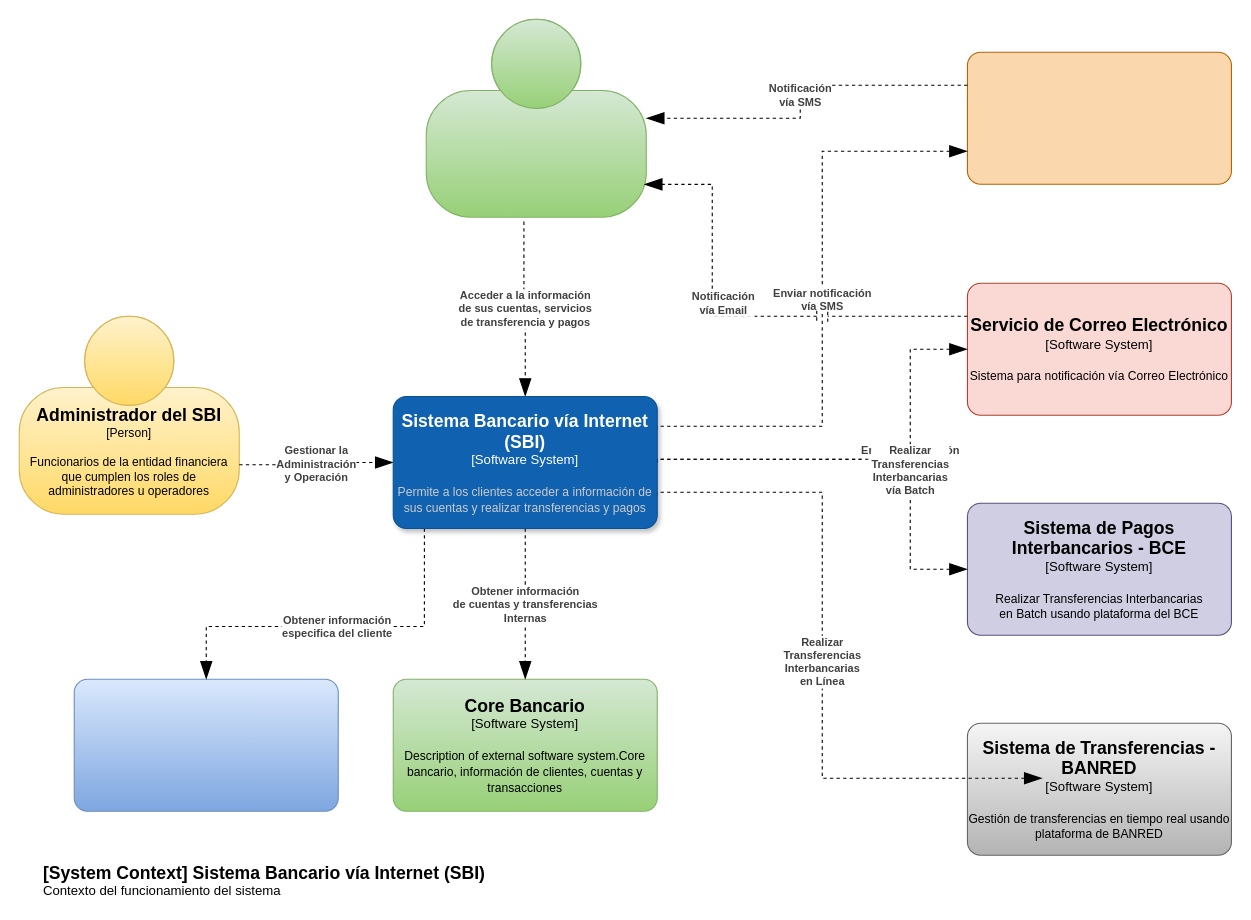
The diagram is 1251 pixels wide and 920 high, and some of its shapes have lost their labels. The shapes that lost their labels are listed below. From the top down, each one's centre as x and y in pixels, then its label:
At point (535, 117): "Cliente de SBI [Person] Cliente de la entidad financiera con cuenta creada".
At point (1098, 117): "SMS Gateway [Software System] Sistema para notificación vía SMS".
At point (205, 744): "CRM Bancario [Software System] Sistema de información especializado de clientes".
